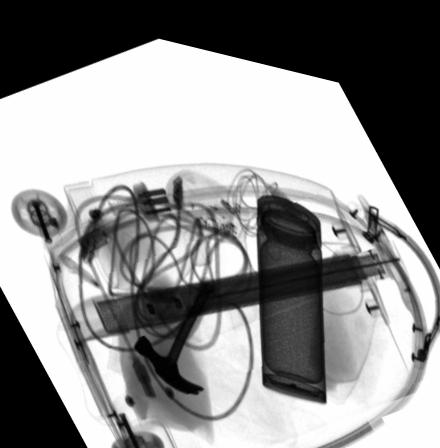Hammer: (132, 265, 219, 385)
